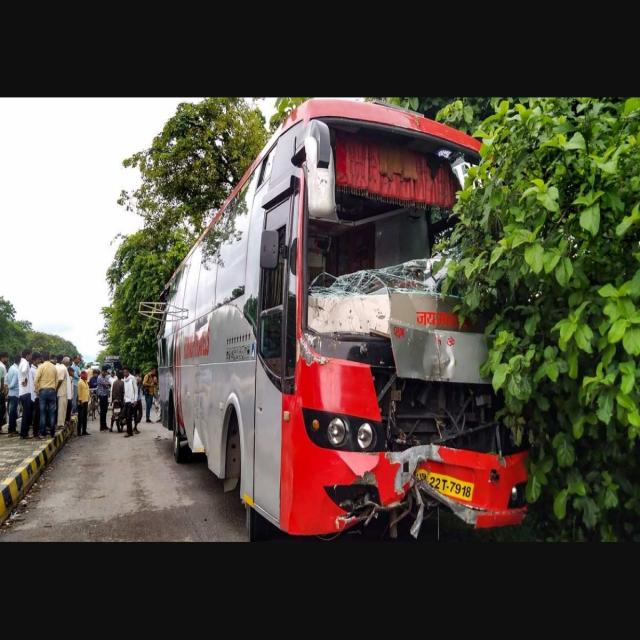accident: (150, 102, 528, 538)
